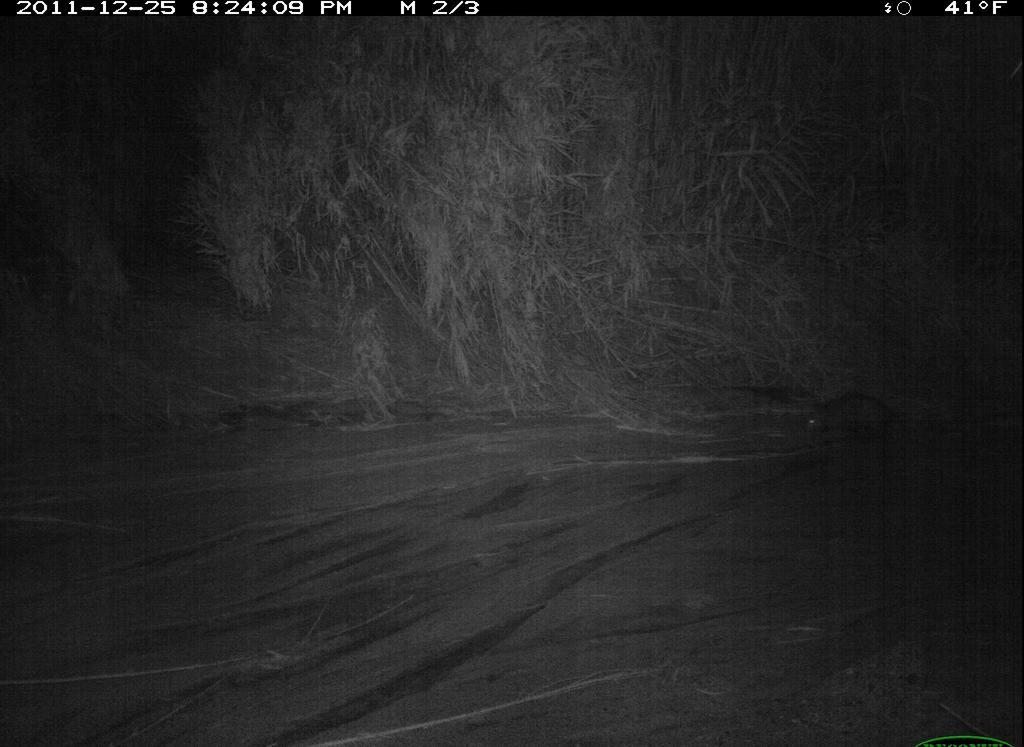opossum: (793, 381, 902, 457)
